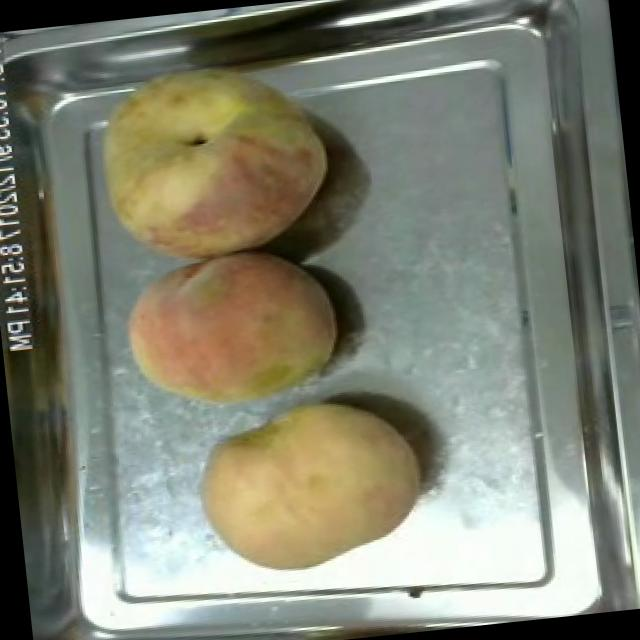Fruit: (74, 40, 348, 281), (182, 384, 433, 592), (106, 234, 351, 427)
